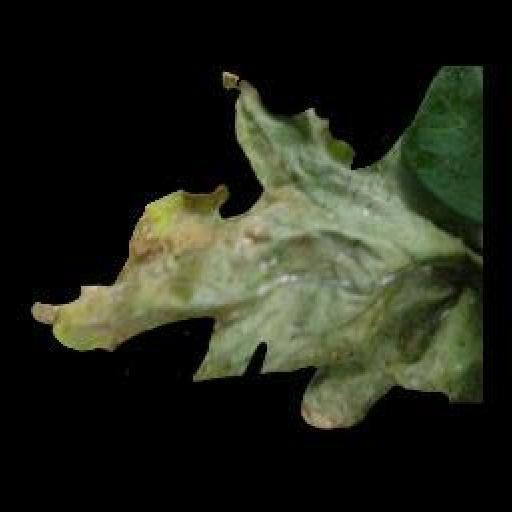disease_tomato: (30, 66, 482, 434)
